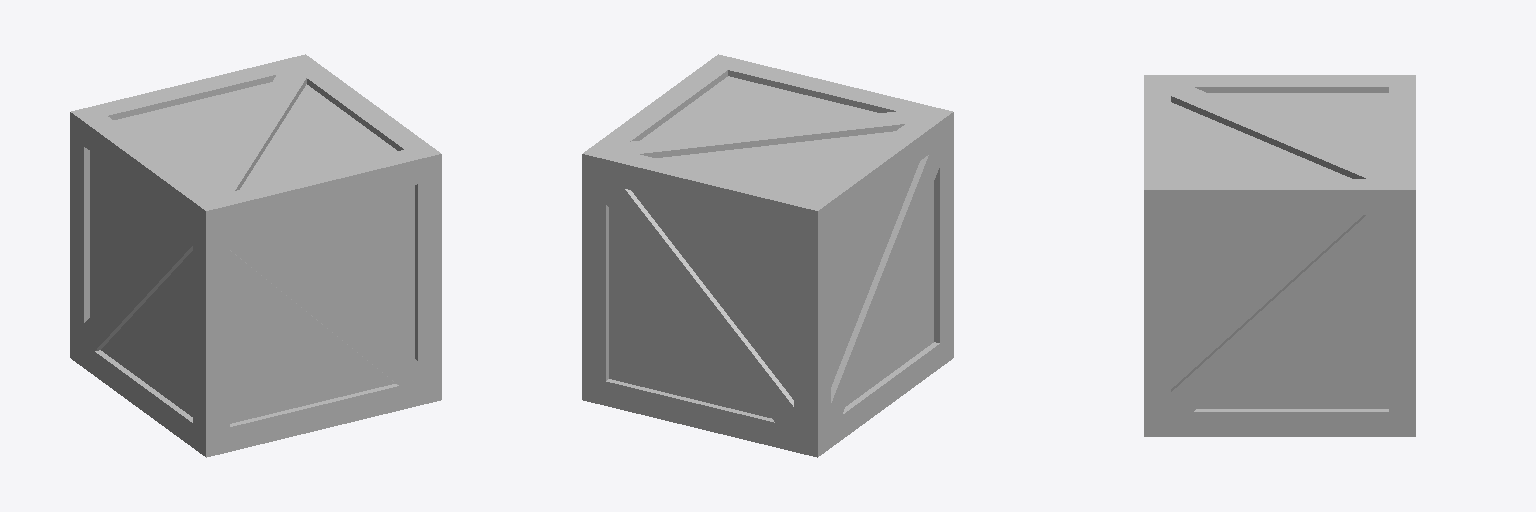
File: WOH_Asset_Box.obj
The picture shows the model from 3 angles: view 1: azimuth 30°, elevation 25°; view 2: azimuth 150°, elevation 25°; view 3: azimuth 270°, elevation 25°; orthographic projection.
Parts seen in each view (by area): view 1: pCube1; view 2: pCube1; view 3: pCube1.
Part boxes in pixels (x1,y1,x2,y2): pCube1: (70,54,441,457); pCube1: (582,54,953,457); pCube1: (1144,75,1415,436).
Bounding box in the file's own units: 98.61 × 98.61 × 98.61.